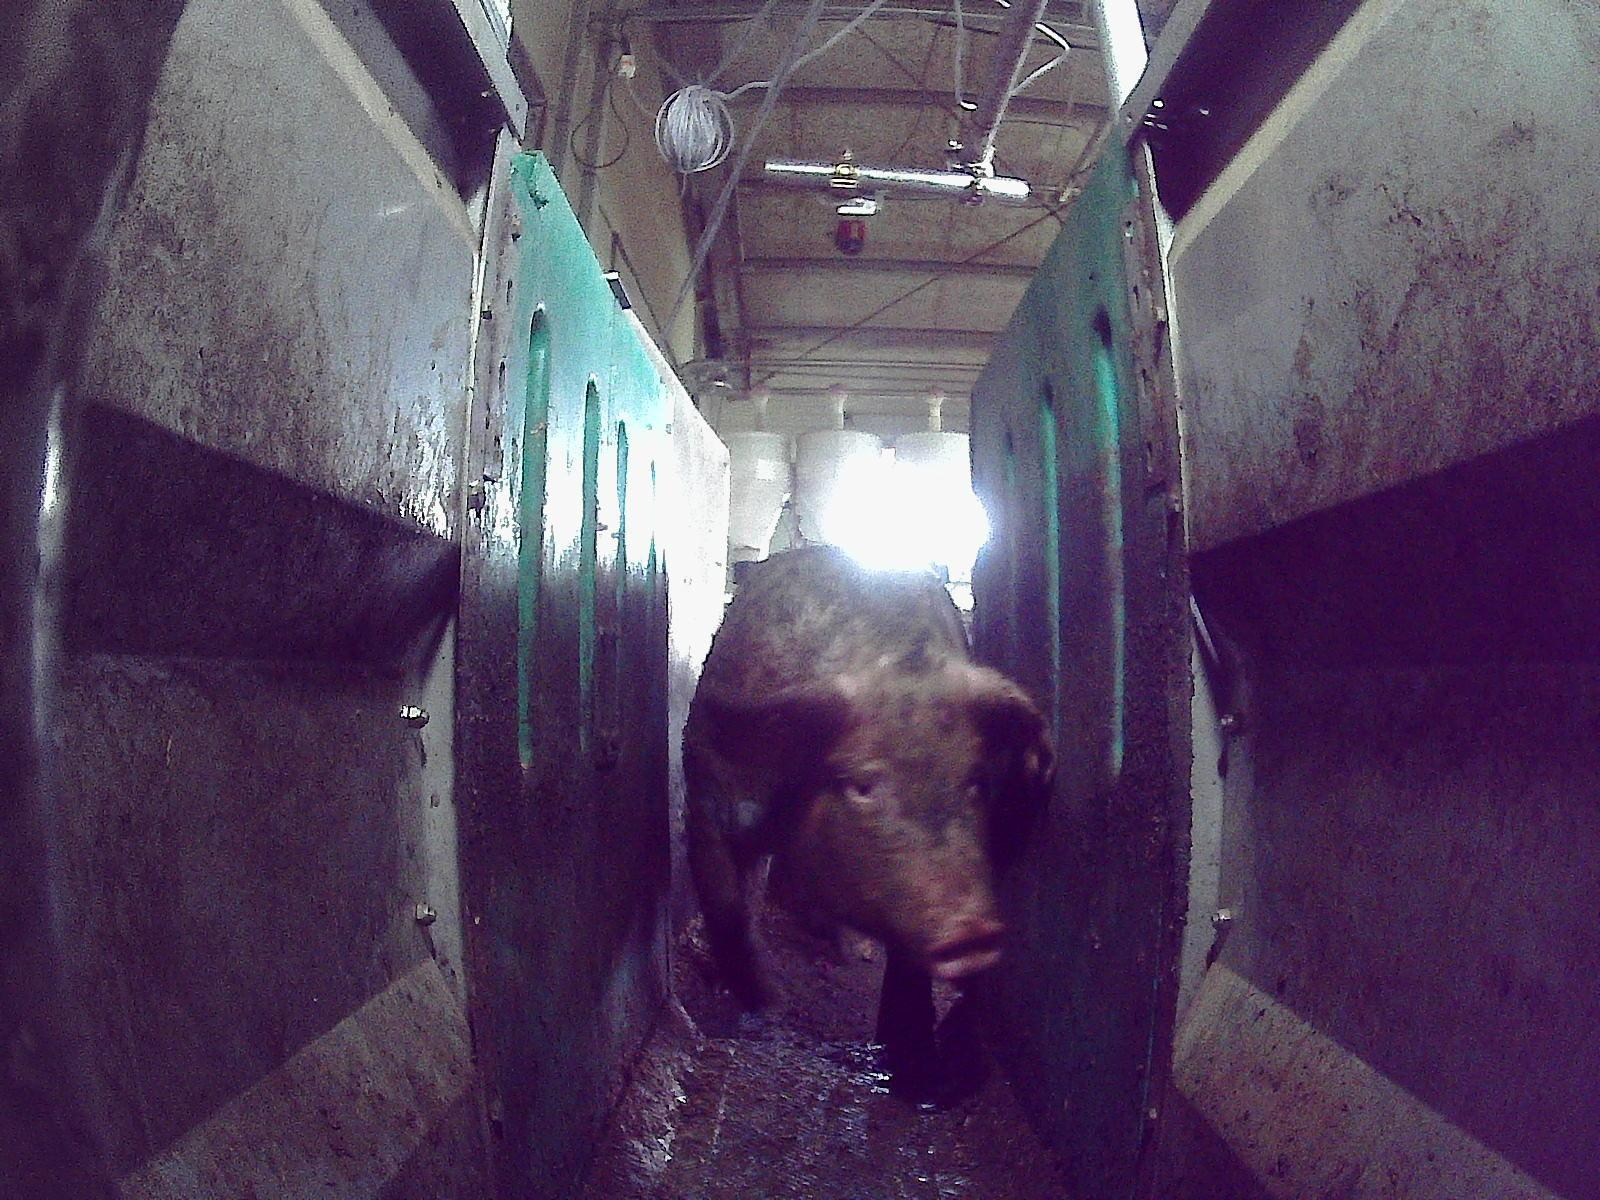Face: (778, 666, 1009, 976)
